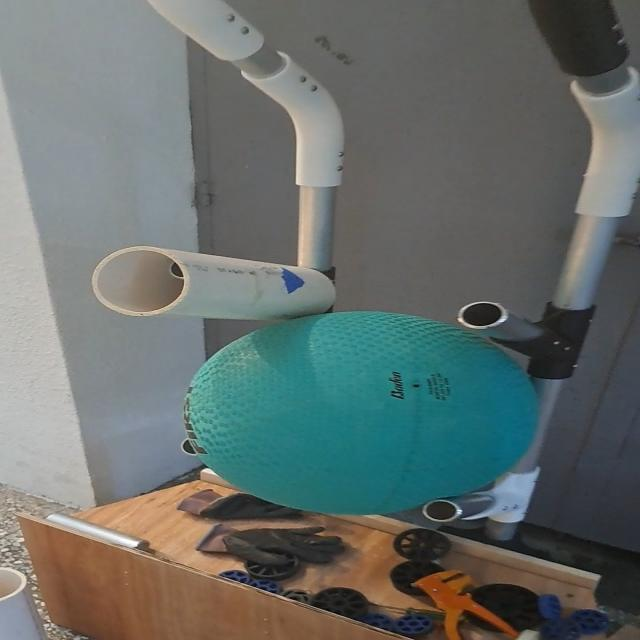ALGAE: (177, 307, 545, 520)
CORAL: (81, 242, 345, 322)
